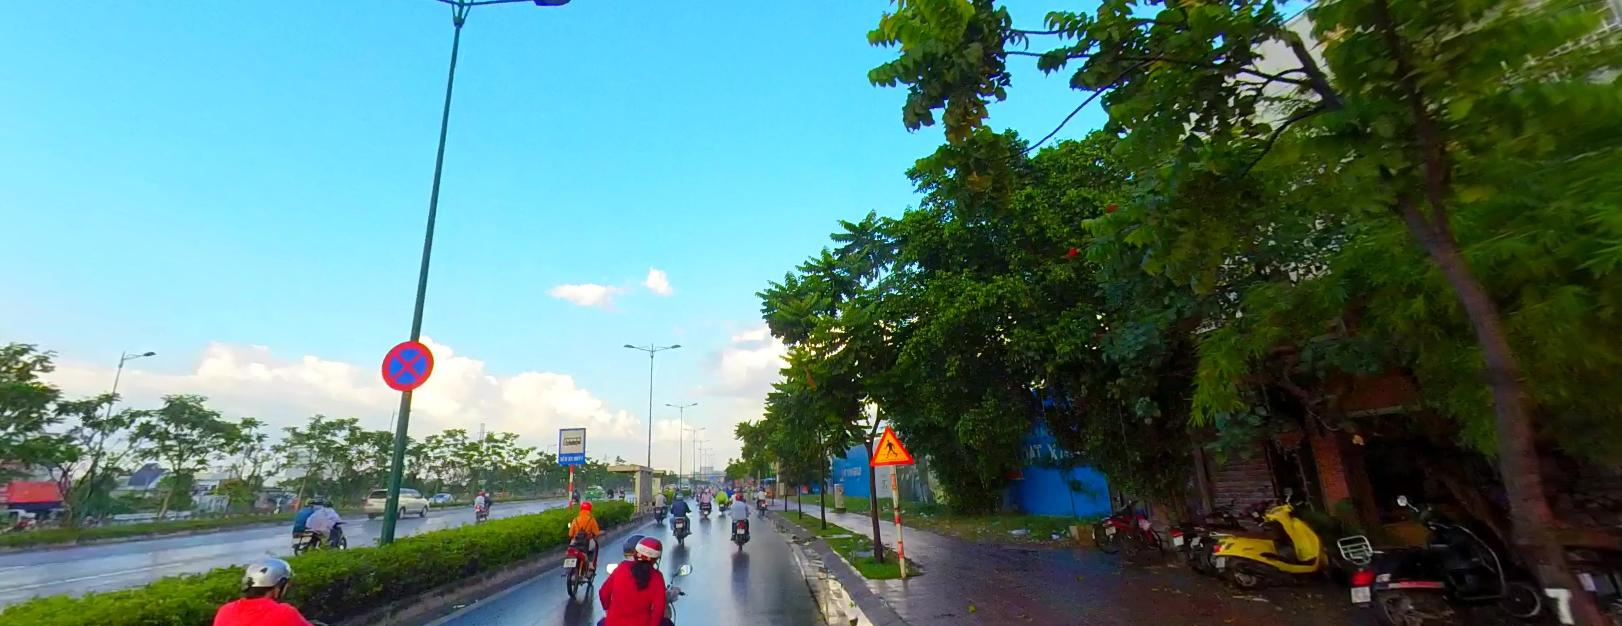Cam dung va do: (379, 335, 434, 392)
Nguy hiem: (863, 418, 912, 469)
